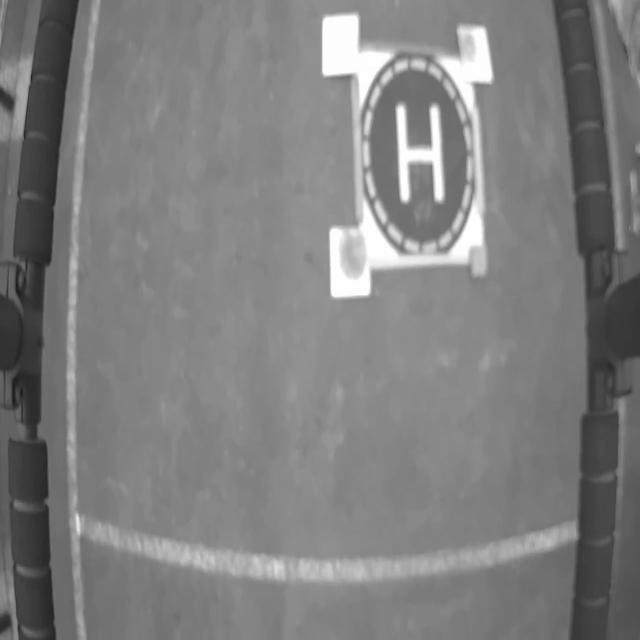Helipad: (395, 100, 445, 204)
